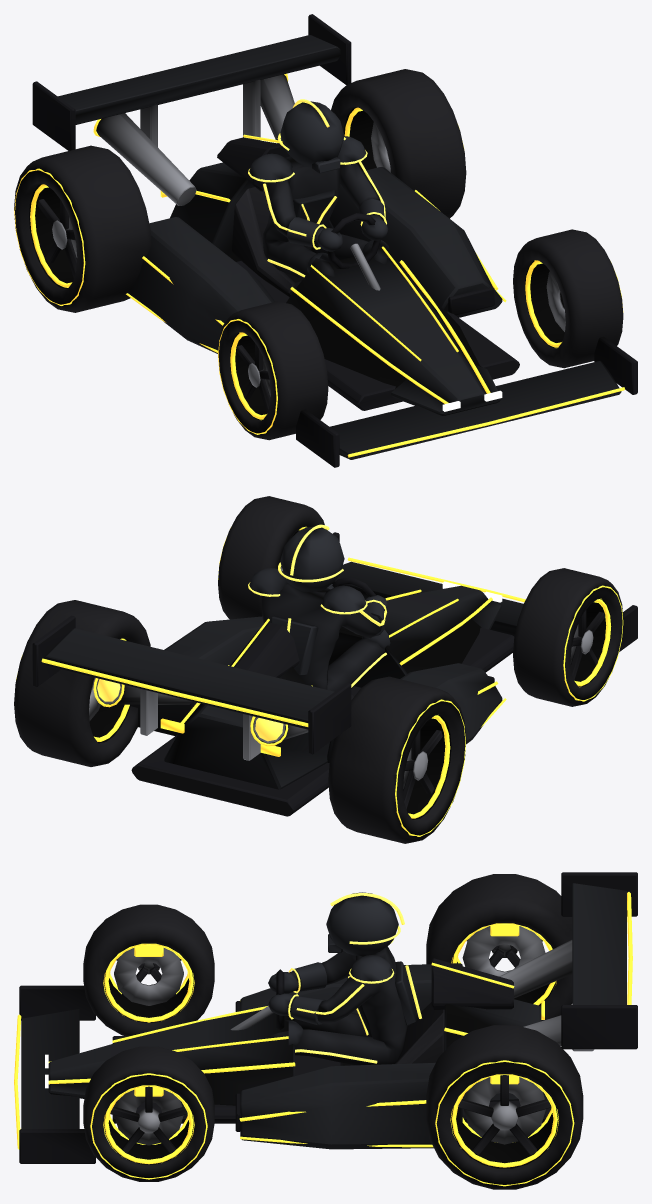
The model's file is kart_lo.glb.
3 renders of one model, top to bottom at view 1: azimuth 30°, elevation 25°; view 2: azimuth 150°, elevation 25°; view 3: azimuth 270°, elevation 25°, orthographic.
Visible parts, largest first — view 1: VEHICLE_kart_BODY, WHEEL_RL_TIRE, VEHICLE_kart_BODY_DARK, WHEEL_RR_TIRE, WHEEL_FR_TIRE, WHEEL_FL_TIRE, VEHICLE_kart_METAL, VEHICLE_kart_SUIT, VEHICLE_kart_ARMOR, VEHICLE_kart_TRIM, VEHICLE_kart_HELMET, VEHICLE_kart_SEAT (+9 smaller); view 2: VEHICLE_kart_BODY, WHEEL_RL_TIRE, VEHICLE_kart_BODY_DARK, WHEEL_RR_TIRE, WHEEL_FL_TIRE, WHEEL_FR_TIRE, VEHICLE_kart_SUIT, VEHICLE_kart_TRIM, VEHICLE_kart_ARMOR, VEHICLE_kart_HELMET, WHEEL_RL_RIM, VEHICLE_kart_METAL (+6 smaller); view 3: VEHICLE_kart_BODY, VEHICLE_kart_BODY_DARK, WHEEL_RR_TIRE, WHEEL_FR_TIRE, WHEEL_FL_TIRE, WHEEL_RL_TIRE, VEHICLE_kart_SUIT, VEHICLE_kart_ARMOR, VEHICLE_kart_TRIM, WHEEL_RR_RIM, VEHICLE_kart_HELMET, WHEEL_RR_METAL (+13 smaller).
Part boxes in pixels (left/top/right/bottom): VEHICLE_kart_BODY: left=58, top=35, right=621, bottom=459; WHEEL_RL_TIRE: left=14, top=145, right=151, bottom=312; VEHICLE_kart_BODY_DARK: left=32, top=14, right=637, bottom=467; WHEEL_RR_TIRE: left=331, top=69, right=466, bottom=218; WHEEL_FR_TIRE: left=513, top=229, right=623, bottom=368; WHEEL_FL_TIRE: left=218, top=301, right=328, bottom=440; VEHICLE_kart_METAL: left=96, top=74, right=380, bottom=290; VEHICLE_kart_SUIT: left=262, top=156, right=389, bottom=278; VEHICLE_kart_ARMOR: left=249, top=136, right=390, bottom=274; VEHICLE_kart_TRIM: left=93, top=73, right=624, bottom=457; VEHICLE_kart_HELMET: left=280, top=101, right=344, bottom=173; VEHICLE_kart_SEAT: left=232, top=187, right=302, bottom=297; VEHICLE_kart_BODY: left=43, top=561, right=523, bottom=789; WHEEL_RL_TIRE: left=328, top=676, right=466, bottom=843; VEHICLE_kart_BODY_DARK: left=32, top=532, right=637, bottom=816; WHEEL_RR_TIRE: left=14, top=600, right=150, bottom=766; WHEEL_FL_TIRE: left=513, top=568, right=623, bottom=706; WHEEL_FR_TIRE: left=218, top=496, right=324, bottom=619; VEHICLE_kart_SUIT: left=261, top=583, right=384, bottom=691; VEHICLE_kart_TRIM: left=41, top=557, right=525, bottom=756; VEHICLE_kart_ARMOR: left=249, top=568, right=390, bottom=675; VEHICLE_kart_HELMET: left=280, top=526, right=344, bottom=592; WHEEL_RL_RIM: left=403, top=715, right=451, bottom=819; VEHICLE_kart_METAL: left=96, top=678, right=308, bottom=760; VEHICLE_kart_BODY: left=21, top=883, right=626, bottom=1149; VEHICLE_kart_BODY_DARK: left=19, top=872, right=637, bottom=1163; WHEEL_RR_TIRE: left=426, top=1025, right=583, bottom=1189; WHEEL_FR_TIRE: left=83, top=1046, right=214, bottom=1181; WHEEL_FL_TIRE: left=83, top=904, right=214, bottom=1035; WHEEL_RL_TIRE: left=426, top=874, right=572, bottom=1021; VEHICLE_kart_SUIT: left=267, top=946, right=408, bottom=1065; VEHICLE_kart_ARMOR: left=268, top=955, right=416, bottom=1045; VEHICLE_kart_TRIM: left=14, top=892, right=632, bottom=1149; WHEEL_RR_RIM: left=451, top=1075, right=558, bottom=1168; VEHICLE_kart_HELMET: left=326, top=892, right=398, bottom=956; WHEEL_RR_METAL: left=463, top=1077, right=545, bottom=1144.
Bounding box in the file's own units: 2.38 × 1.27 × 3.42.
